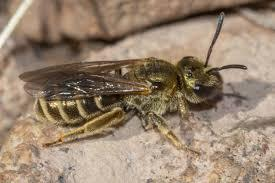Seladonia: (22, 4, 251, 148)
